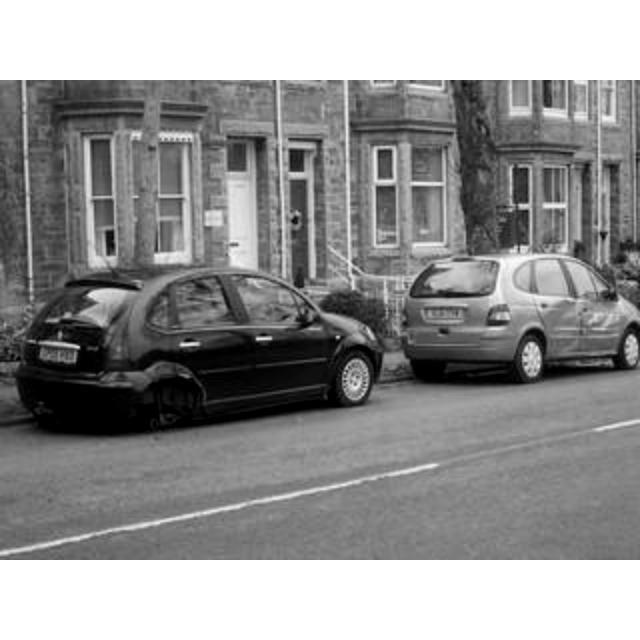doorouter-dent: (580, 296, 630, 356), (544, 294, 580, 354)
quaterpanel-dent: (122, 330, 184, 396)
